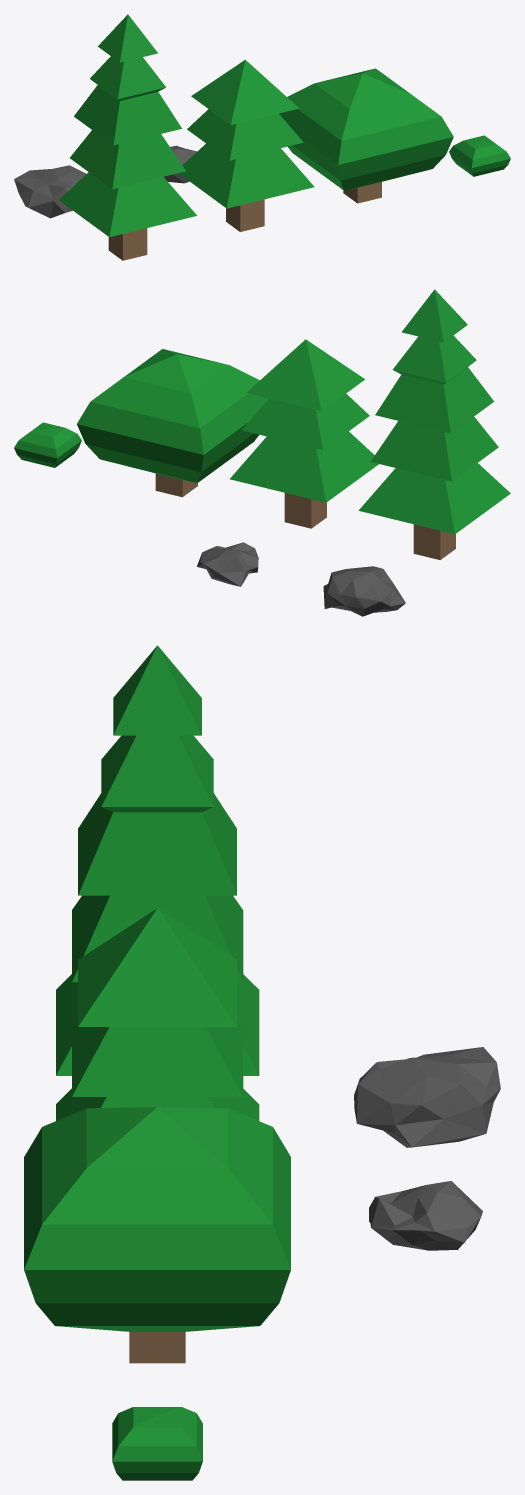
Rendered from terrain_objects.glb.
3 renders of one model, top to bottom at view 1: azimuth 30°, elevation 25°; view 2: azimuth 150°, elevation 25°; view 3: azimuth 270°, elevation 25°, orthographic. The views are drawn at different scales.
Parts seen in each view (by area): view 1: Tree01, Tree03, Tree02, Rock01, Bush01, Rock02; view 2: Tree01, Tree03, Tree02, Rock01, Bush01, Rock02; view 3: Tree03, Tree01, Tree02, Rock01, Bush01, Rock02.
Boxes of the visible parts, left/top/right/bottom form: Tree01: left=59, top=14, right=197, bottom=260; Tree03: left=279, top=68, right=453, bottom=203; Tree02: left=178, top=59, right=314, bottom=231; Rock01: left=14, top=165, right=86, bottom=218; Bush01: left=449, top=135, right=510, bottom=176; Rock02: left=164, top=145, right=196, bottom=183; Tree01: left=358, top=289, right=510, bottom=559; Tree03: left=77, top=349, right=268, bottom=497; Tree02: left=230, top=339, right=378, bottom=528; Rock01: left=323, top=566, right=405, bottom=616; Bush01: left=14, top=422, right=81, bottom=467; Rock02: left=197, top=542, right=258, bottom=586; Tree03: left=24, top=1107, right=290, bottom=1363; Tree01: left=56, top=645, right=259, bottom=1075; Tree02: left=56, top=908, right=259, bottom=1120; Rock01: left=354, top=1047, right=500, bottom=1147; Bush01: left=112, top=1407, right=202, bottom=1480; Rock02: left=369, top=1181, right=482, bottom=1250.
Size of the model in its own units: 14.17 by 7.85 by 7.04.
